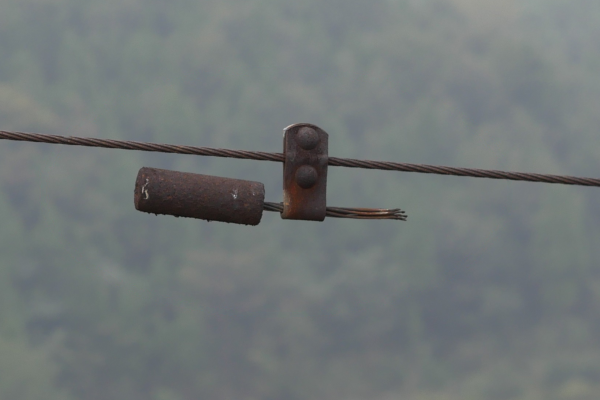damper_defect: (128, 115, 413, 234)
